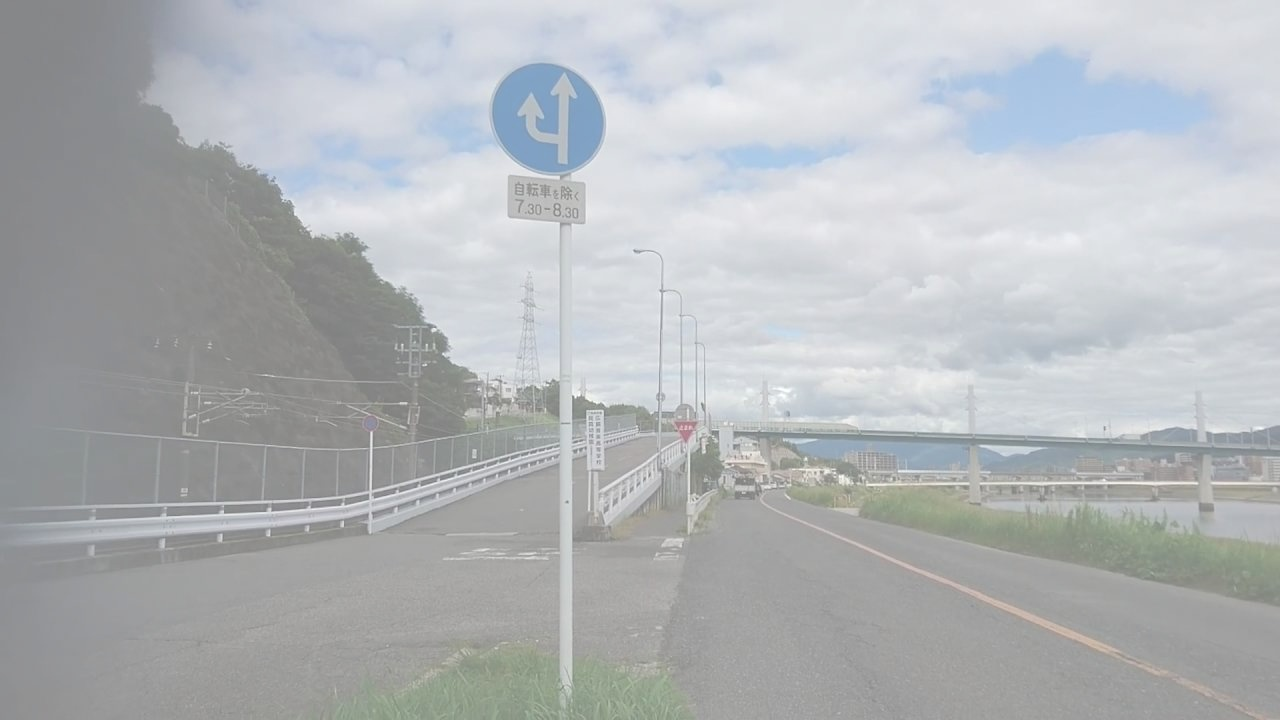Direction_sign: (475, 42, 618, 184)
